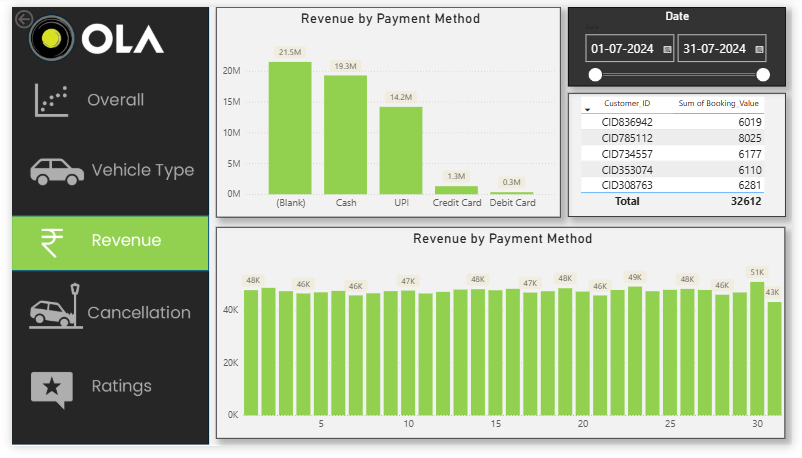

The page's visual inventory and layout, read from the dashboard file:
{"tool":"powerbi","page":{"name":"Revenue","canvas":[1280,720],"ordinal":2},"visuals":[{"type":"actionButton","box":[0,220.3,324,92.2],"z":0},{"type":"actionButton","box":[0,445,324,92.2],"z":1000},{"type":"actionButton","box":[0,573.1,324,92.2],"z":2000},{"type":"actionButton","box":[0,108,324,90.7],"z":3000},{"type":"columnChart","title":"Revenue by Payment Method ","fields":{"Y":["Sum(Bookings2.Booking_Value)"],"Category":["Bookings2.Payment_Method"]},"box":[335,0,565,345],"z":3001},{"type":"columnChart","title":"Revenue by Payment Method ","fields":{"Category":["Bookings2.Date.Variation.Date Hierarchy.Day"],"Y":["Sum(Bookings2.Ride_Distance)"]},"box":[335,360,933.3,346.7],"z":3002},{"type":"slicer","title":"Date","fields":{"Values":["Bookings2.Date"]},"box":[911.7,0,356.7,130],"z":3003},{"type":"actionButton","box":[0,0,100,40],"z":3005},{"type":"tableEx","title":"Revenue by Payment Method ","fields":{"Values":["Bookings2.Customer_ID","Sum(Bookings2.Booking_Value)"]},"box":[911.7,141.7,356.7,203.3],"z":3006}]}

Visuals, with their boxes in screenshot pixels (x1, y1, x2, y2), scaled from the page's 1280x720 canvas onto the 802x458 screenshot:
actionButton: [0, 140, 203, 199]
actionButton: [0, 283, 203, 342]
actionButton: [0, 365, 203, 423]
actionButton: [0, 69, 203, 126]
"Revenue by Payment Method " columnChart: [210, 0, 564, 219]
"Revenue by Payment Method " columnChart: [210, 229, 795, 450]
"Date" slicer: [571, 0, 795, 83]
actionButton: [0, 0, 63, 25]
"Revenue by Payment Method " tableEx: [571, 90, 795, 219]
